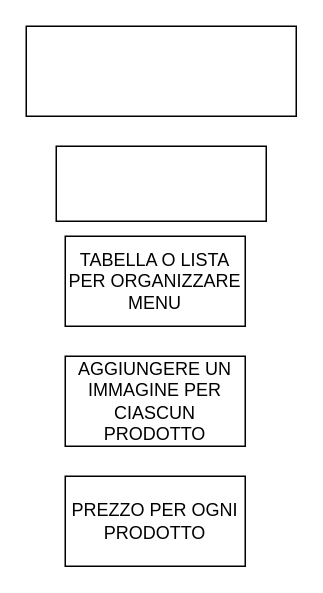
Image size: 323x593. Some labels were removed from this diagram. The shapes that lost their labels are listed below. From the top down, each one's centre as x and y in pixels, then its label:
point 160,70: MENU
point 160,183: PRODOTTI OFFERTI DALL'AZIENDA
